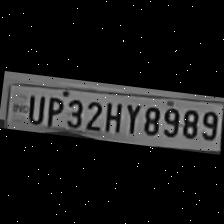2: (82, 95, 104, 130)
3: (62, 94, 84, 128)
8: (138, 100, 161, 137), (177, 104, 200, 140)
9: (158, 102, 181, 138), (197, 106, 220, 142)
H: (101, 96, 125, 134)
P: (42, 92, 64, 128)
U: (22, 90, 46, 124)
Y: (119, 97, 142, 136)
